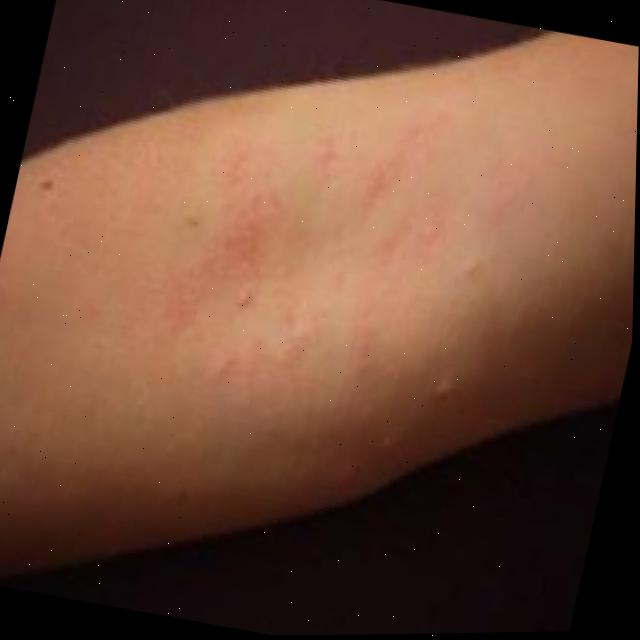Eczema: (126, 126, 511, 522)
